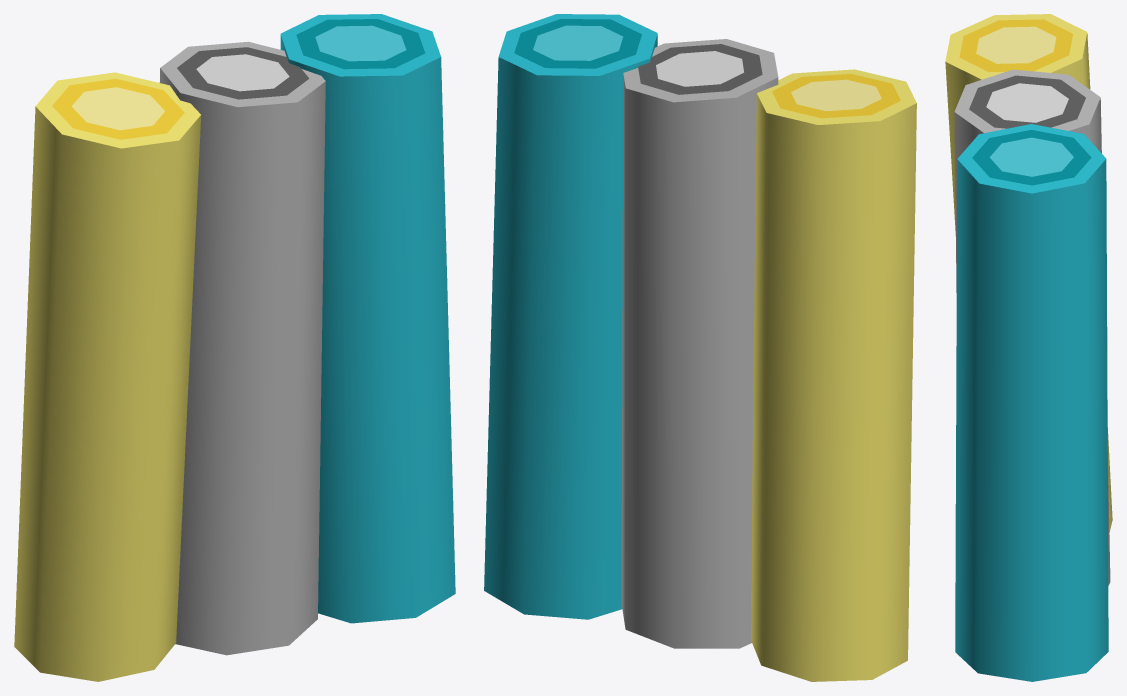
The model's file is fabric-roll-c.glb.
3 views of the same model, side by side, from view 1: azimuth 30°, elevation 25°; view 2: azimuth 150°, elevation 25°; view 3: azimuth 270°, elevation 25° (orthographic). The views are drawn at different scales.
Parts seen in each view (by area): view 1: shop_035; view 2: shop_035; view 3: shop_035.
Boxes of the visible parts, bbox=[...] form: shop_035: bbox=[14, 14, 455, 681]; shop_035: bbox=[484, 14, 916, 681]; shop_035: bbox=[945, 14, 1112, 681].
Size of the model in its own units: 0.303 by 0.3916 by 0.1187.
Materials: 1 (1 with a texture image).
